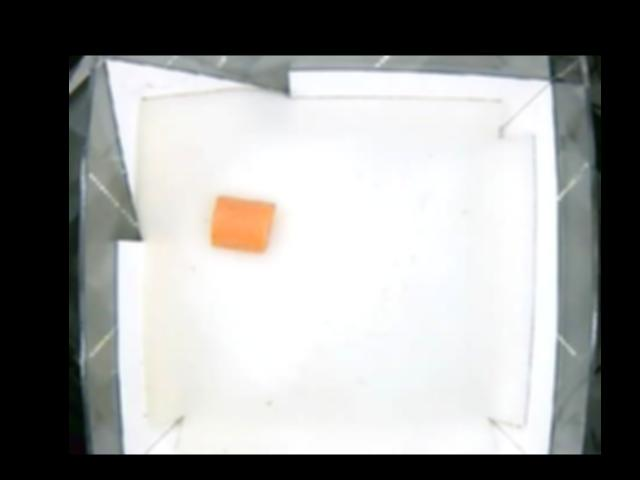Carrot: (211, 193, 278, 250)
